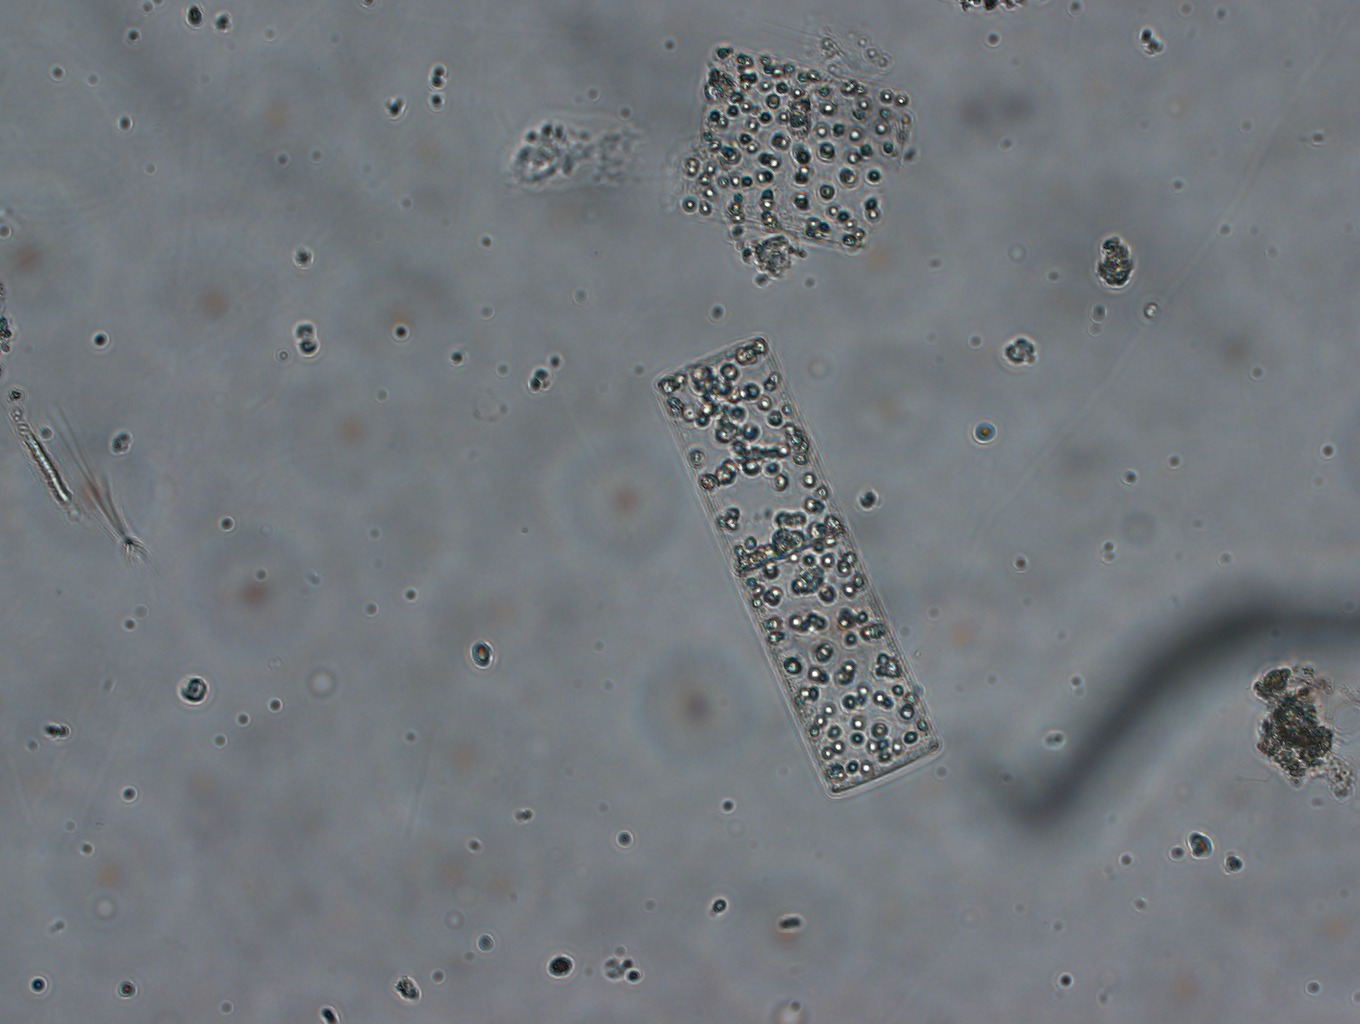guinardia flaccida: (640, 323, 950, 799), (656, 28, 919, 266)
